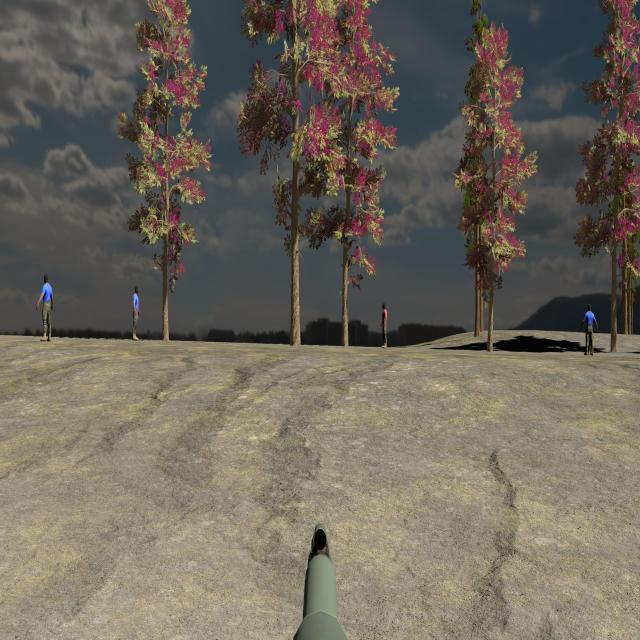Human: (37, 273, 54, 342), (581, 303, 598, 356), (381, 301, 388, 349)
